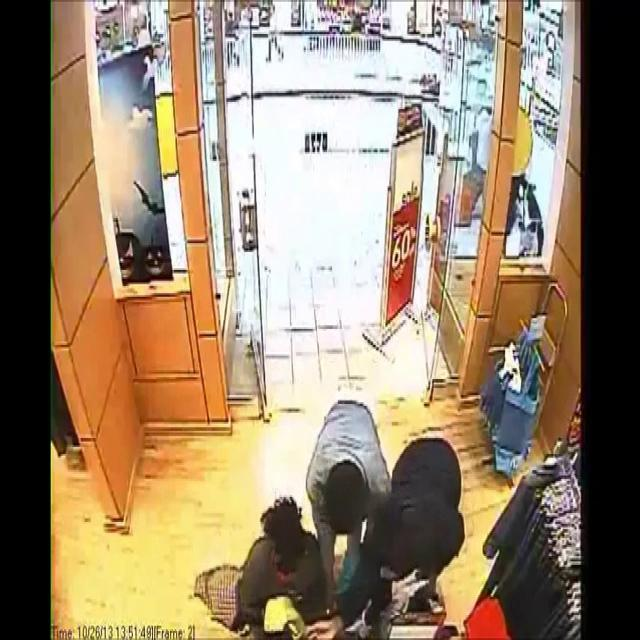Product: (250, 588, 293, 640)
shoplifting: (364, 418, 477, 640), (227, 476, 333, 640), (295, 388, 393, 540)
